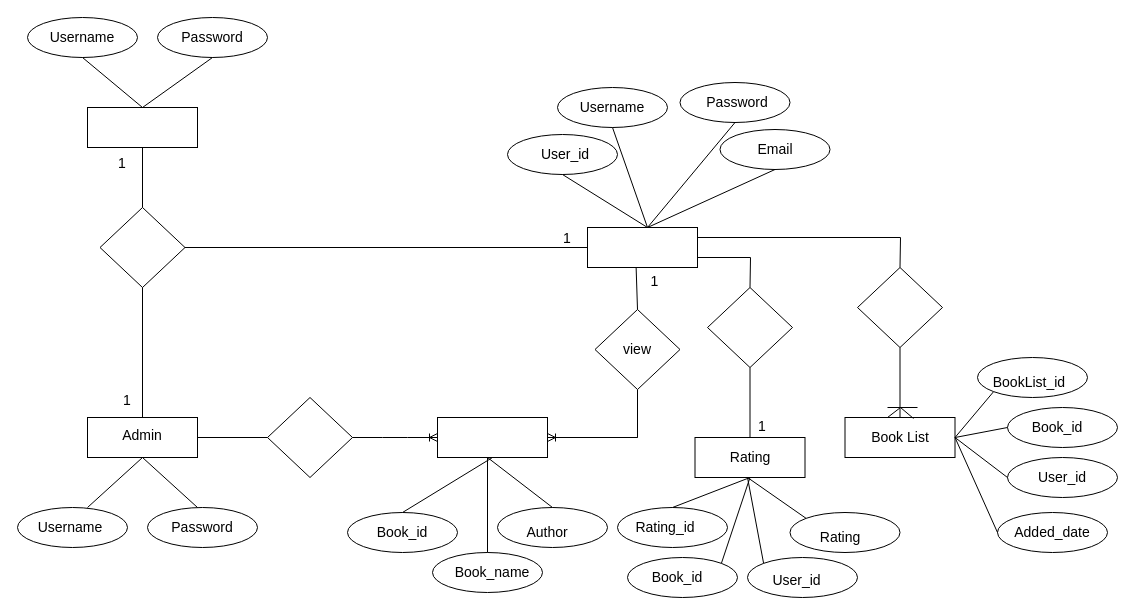
The diagram is 1135 pixels wide and 615 high, and some of its shapes have lost their labels. The centre of each missing label's shape, as x and y in pixels:
add / remove: the point at 899,307
Book: the point at 492,437
has: the point at 142,247
Login: the point at 142,127
manage: the point at 309,437
provides: the point at 749,327
User: the point at 642,247
